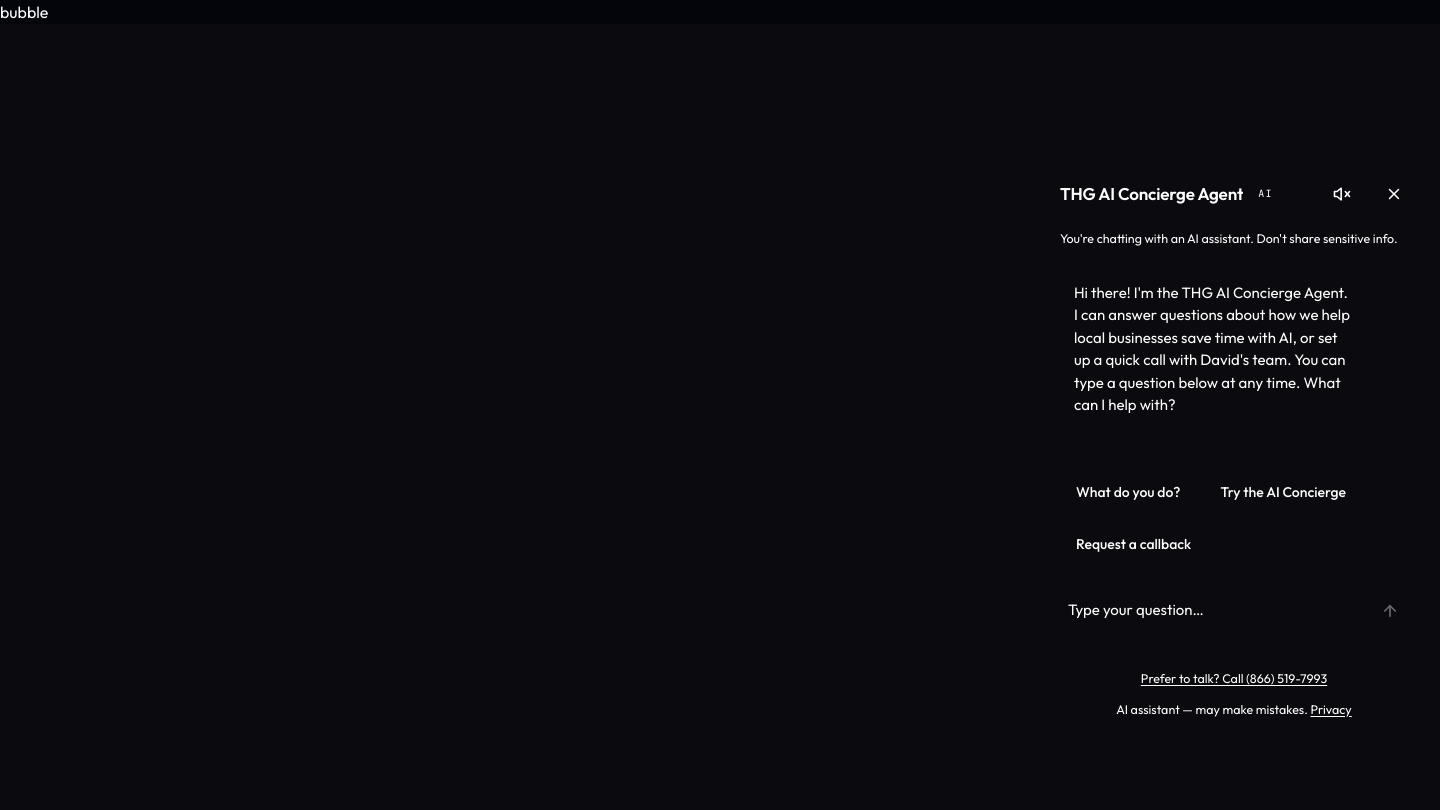
it: ChatPanel voice › the speaker toggle flips, and is remembered when the panel is built again in the same tab
Later steps or results of the test are not shown.
What coordinates should you click on to do the following:
click the button named "Sound"
I would click on:
 (1342, 194)
Its box is [1320, 172, 1364, 216].
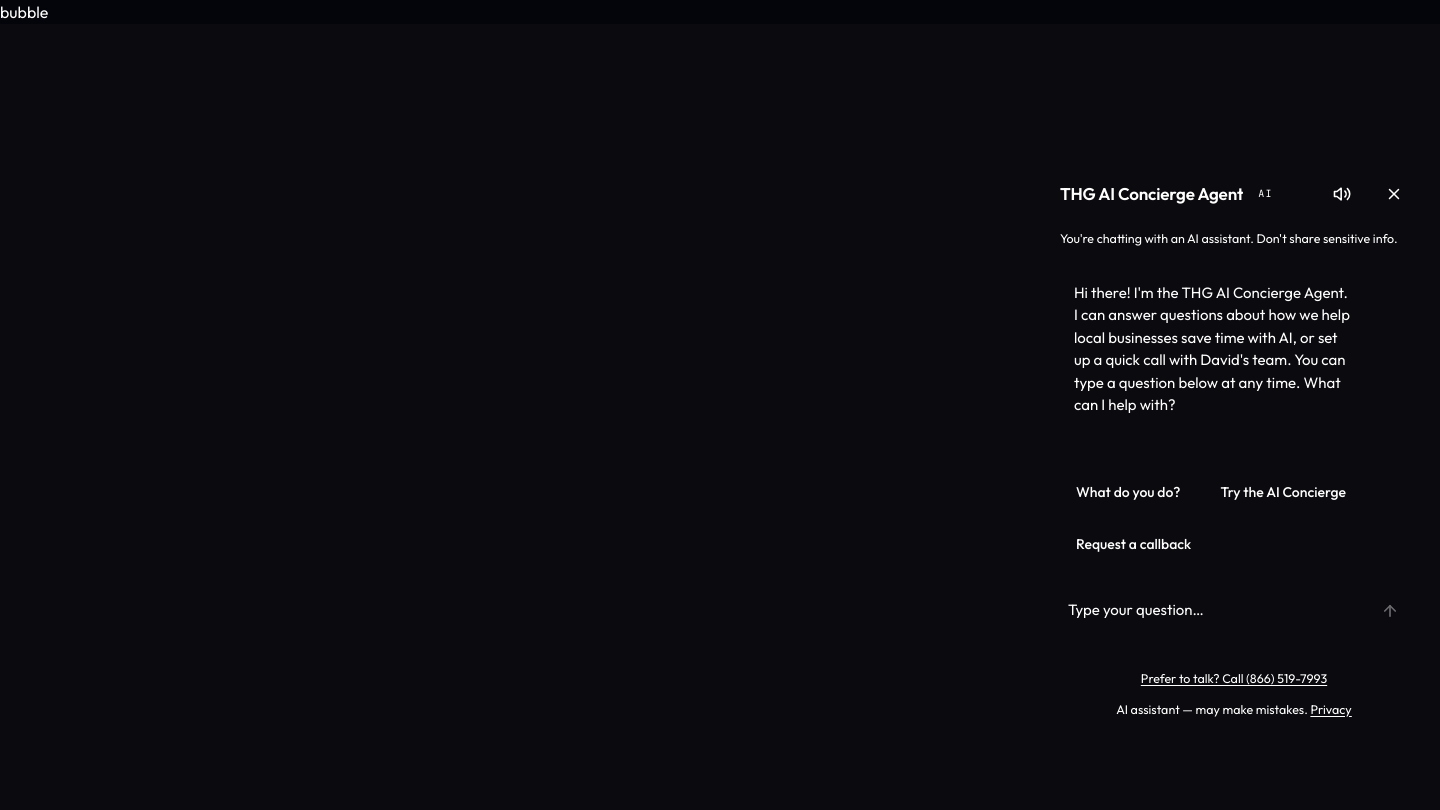
Now the button named "Sound" is pressed, box [1320, 172, 1364, 216]
